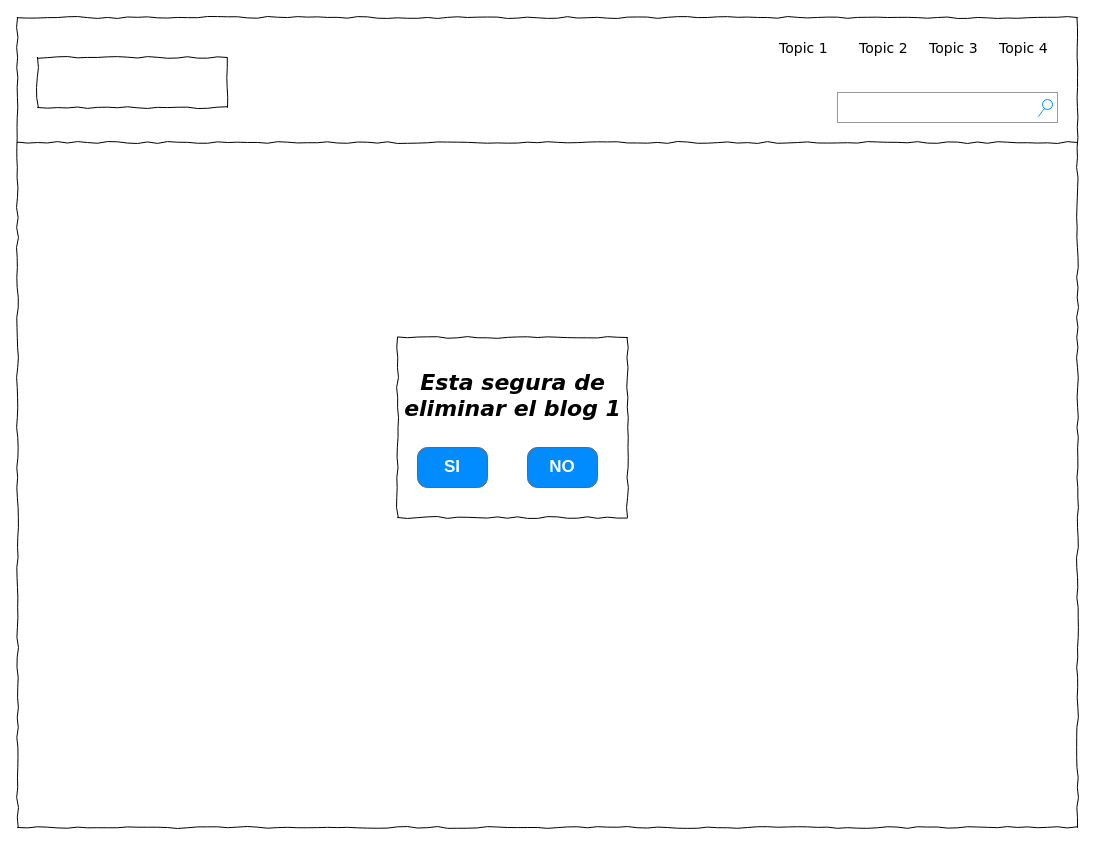
Some shapes in this 1095 by 845 pixel diagram are drawn without their labels. Each missing label, with the centre of its shape:
LOGO: (132,82)
Search: (947,107)
